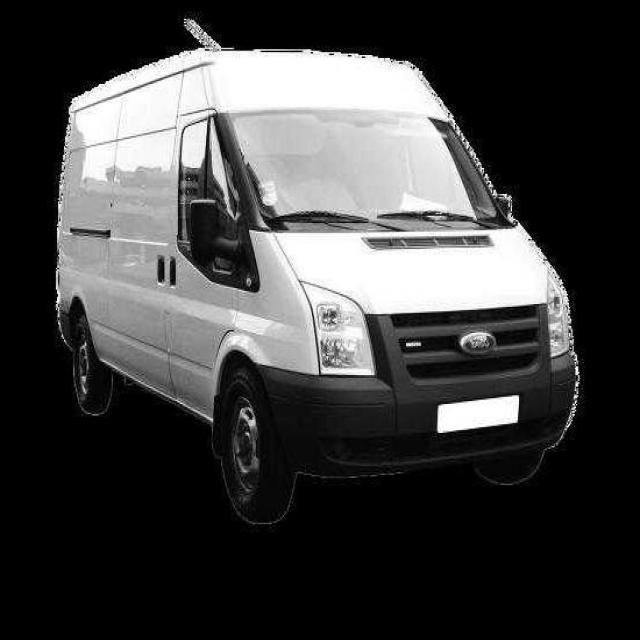Van: (56, 56, 582, 518)
